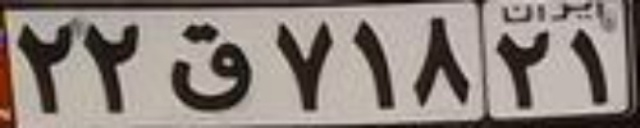1: (350, 20, 395, 108), (567, 28, 609, 106)
2: (16, 22, 72, 113), (83, 20, 138, 112), (491, 29, 551, 108)
7: (272, 21, 335, 111)
8: (410, 16, 473, 107)
ghaf: (166, 23, 256, 112)
